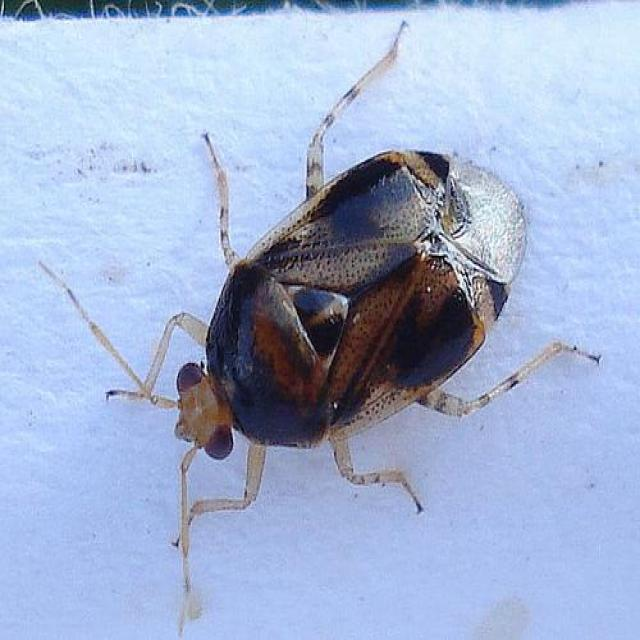Miridae-Adult-: (45, 28, 616, 546)
